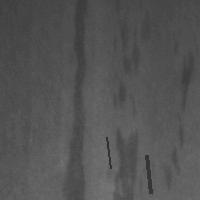inclusion: (60, 1, 98, 198), (160, 36, 194, 187), (106, 2, 153, 73), (112, 126, 139, 200), (111, 77, 136, 118), (144, 153, 152, 195), (104, 135, 112, 170)
